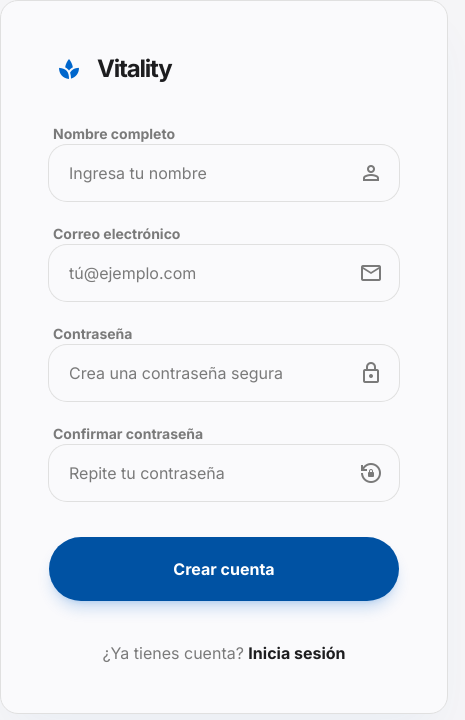
Test case: RegistroForm › shows password mismatch error
Type "Test User" into the field with placeholder "Ingresa tu nombre" at {"x": 224, "y": 173}, box [49,145,399,201]
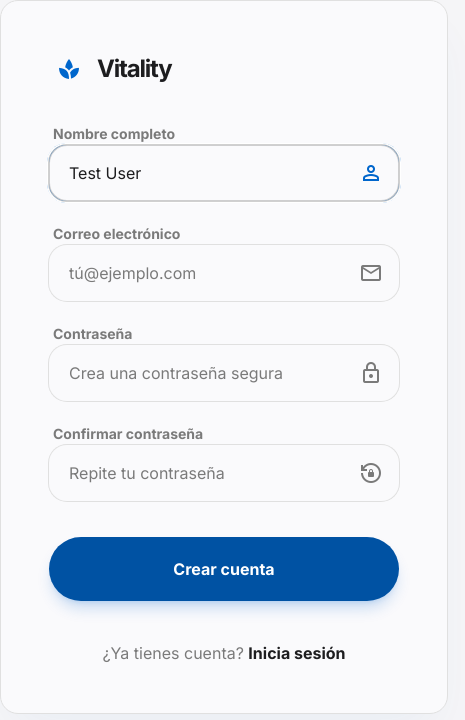
Type "test@example.com" into the field with placeholder "tú@ejemplo.com" at {"x": 224, "y": 273}, box [49,245,399,301]
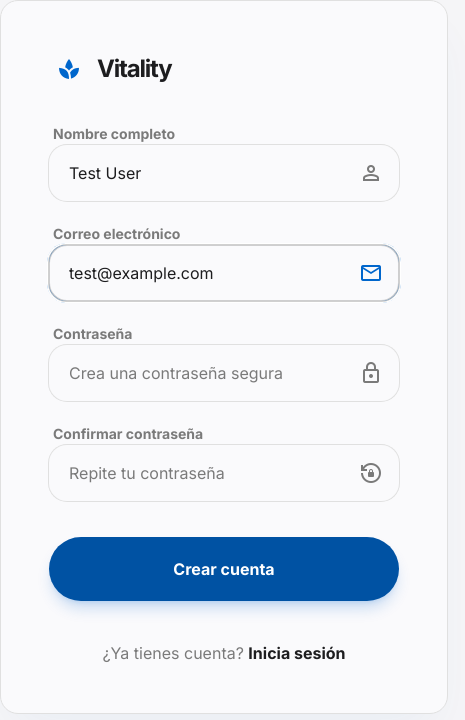
Type "password123" into the password field with placeholder "Crea una contraseña segura" at {"x": 224, "y": 373}, box [49,345,399,401]
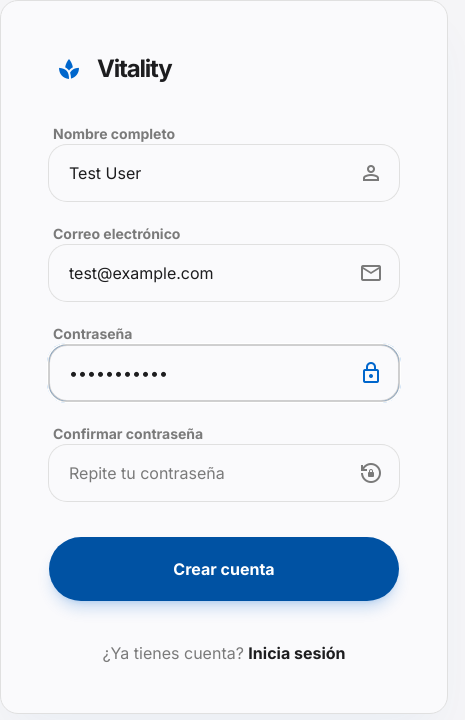
Type "different" into the password field with placeholder "Repite tu contraseña" at {"x": 224, "y": 473}, box [49,445,399,501]
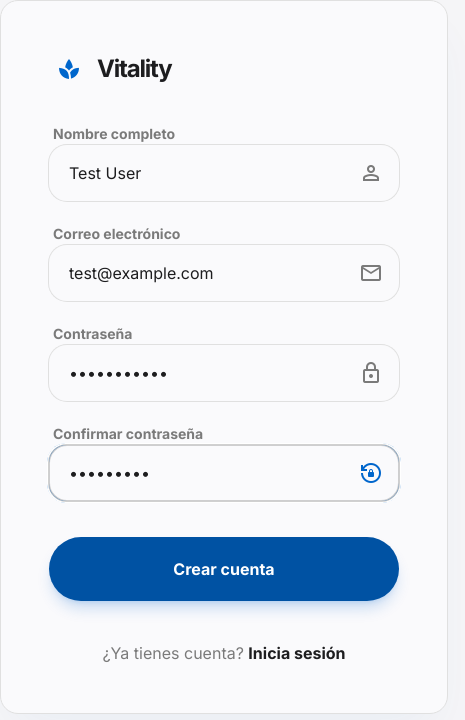
Click the button "Crear cuenta" at {"x": 224, "y": 569}, box [49,537,399,601]
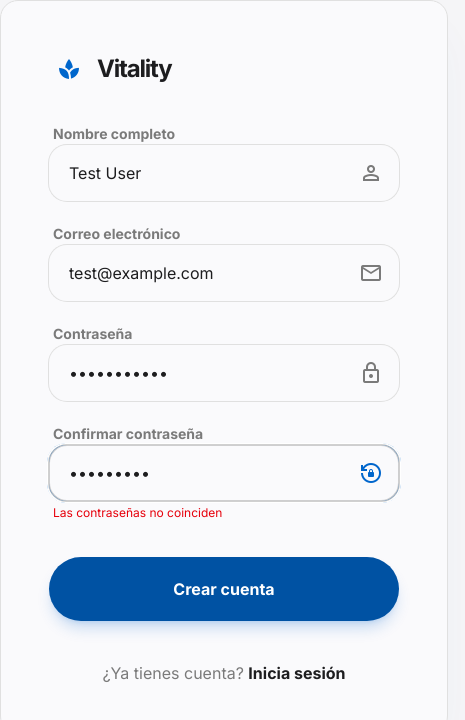
Check: the text "Las contraseñas no coinciden" is shown, box [53,505,222,520]
